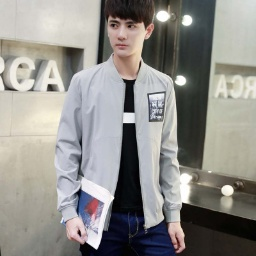face: (101, 1, 156, 59)
